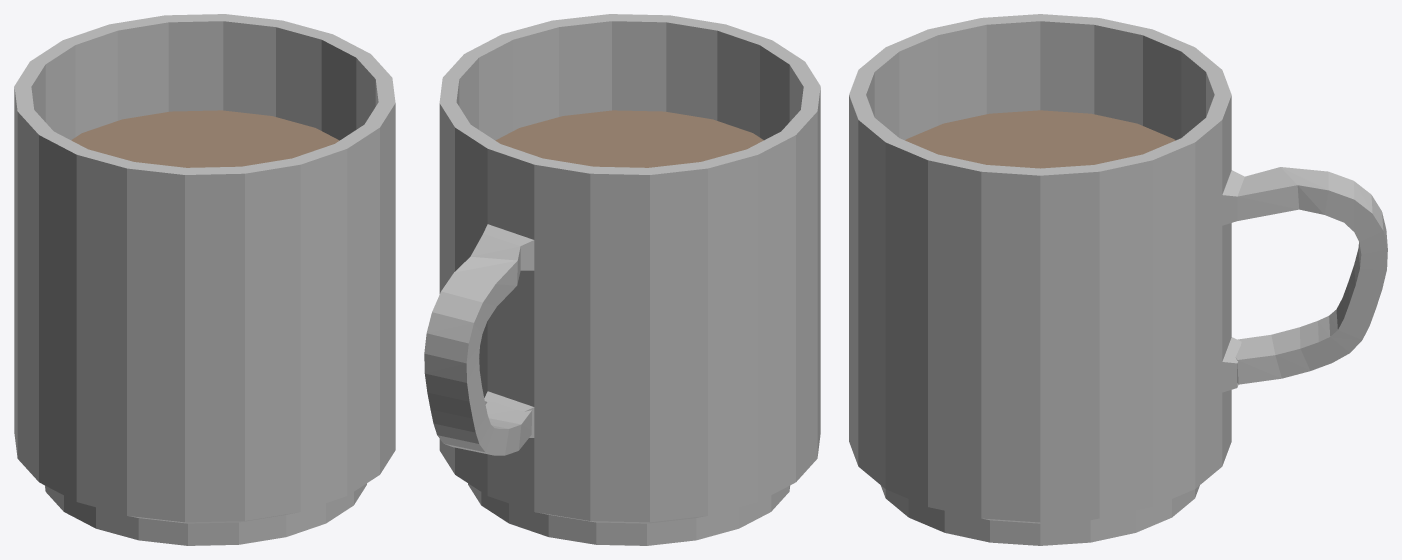
File: Coffee.fbx
The picture shows the model from 3 angles, left to right: view 1: azimuth 30°, elevation 25°; view 2: azimuth 150°, elevation 25°; view 3: azimuth 270°, elevation 25°; orthographic projection.
Parts seen in each view (by area): view 1: cup:pCylinder1, Coffee; view 2: cup:pCylinder1, Coffee; view 3: cup:pCylinder1, Coffee.
Part boxes in pixels (x1=…): cup:pCylinder1: x1=14, y1=14, x2=395, y2=545; Coffee: x1=71, y1=110, x2=339, y2=167; cup:pCylinder1: x1=424, y1=14, x2=820, y2=545; Coffee: x1=495, y1=110, x2=763, y2=167; cup:pCylinder1: x1=849, y1=14, x2=1387, y2=545; Coffee: x1=905, y1=110, x2=1175, y2=168.
Size of the model in its own units: 0.2915 by 0.3214 by 0.4105.
